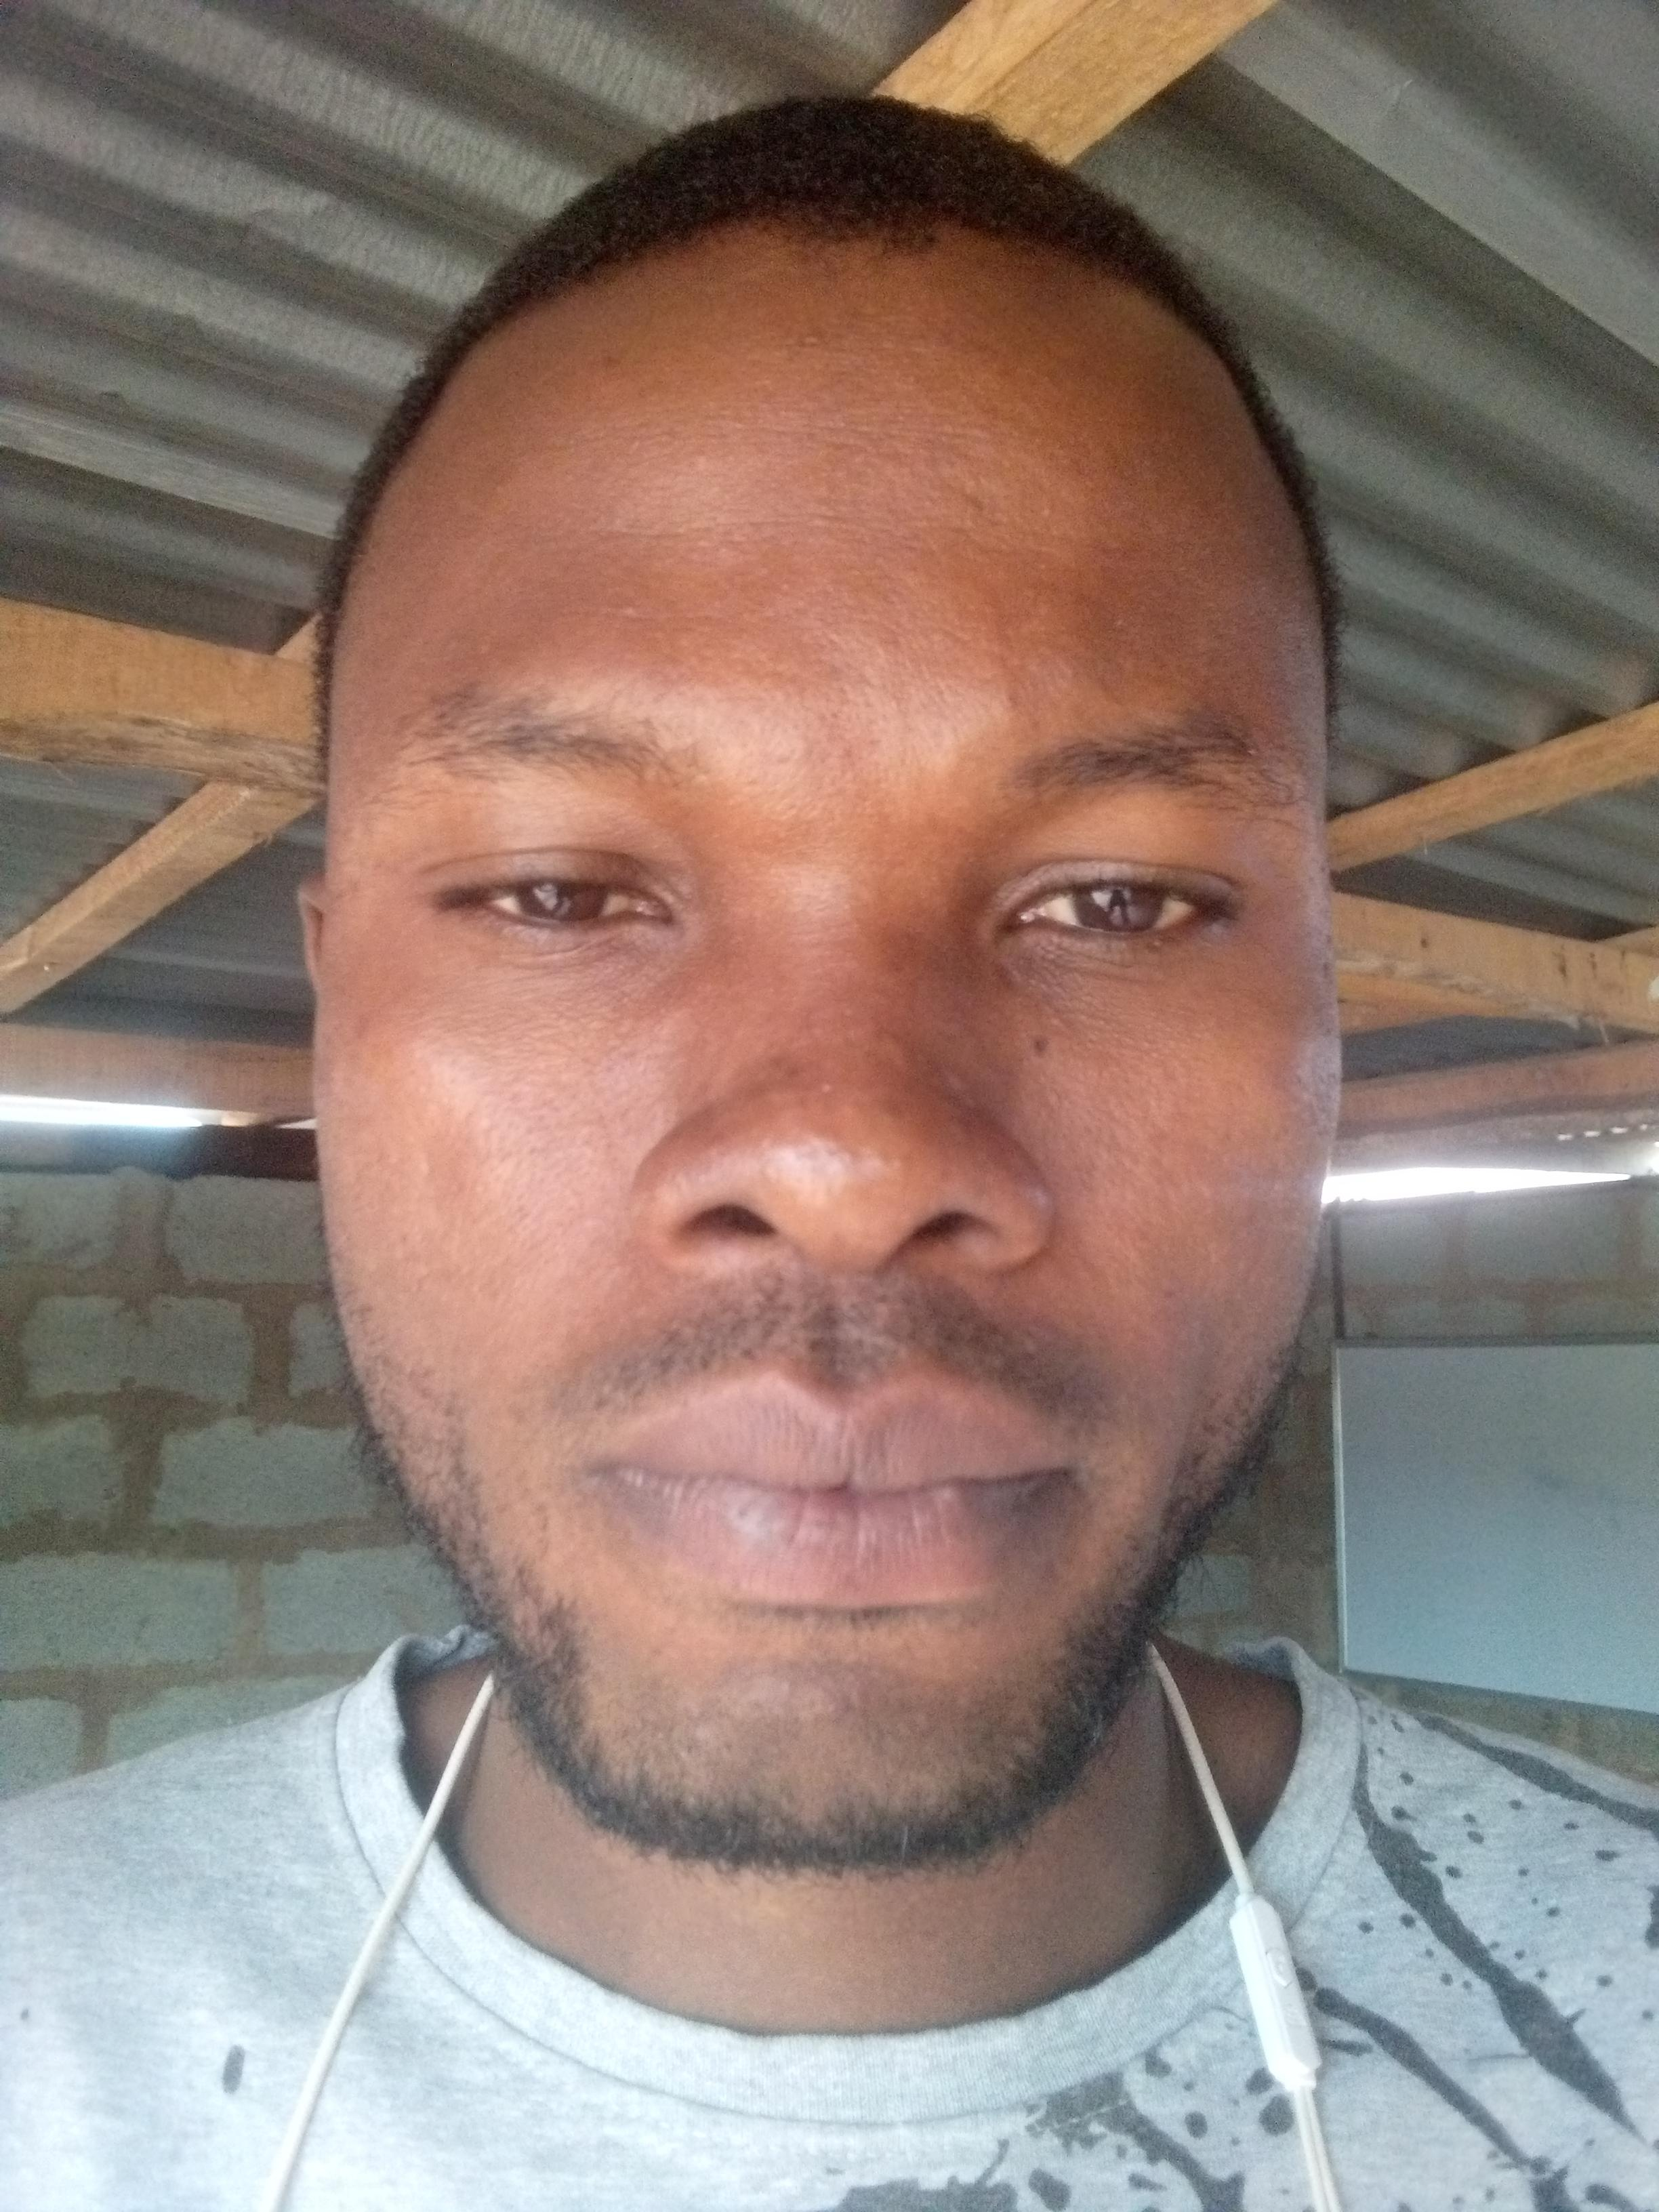Blackheads: (748, 1028, 925, 1179)
Englarged-Pores: (1026, 1024, 1201, 1200), (477, 1014, 629, 1197), (453, 1188, 561, 1294), (791, 685, 887, 768)
Wrinkles: (554, 585, 1053, 665), (579, 505, 1060, 556), (653, 399, 997, 458)
